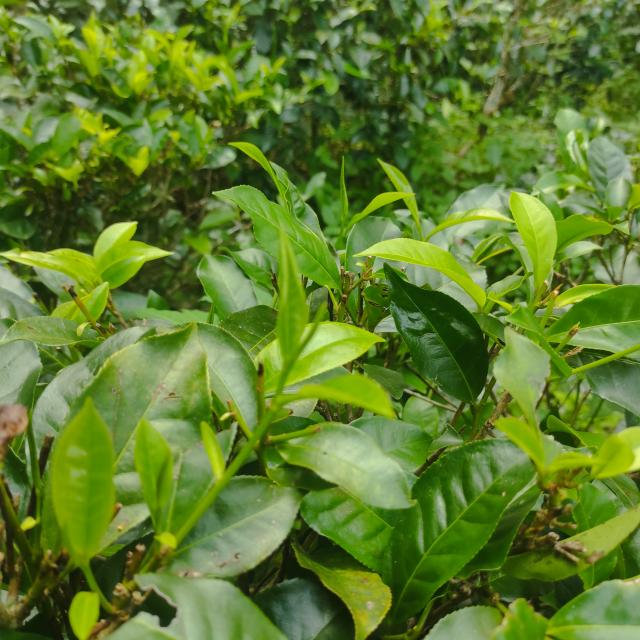unopened_leaf: (279, 293, 335, 382), (336, 150, 355, 230), (471, 232, 504, 266)
